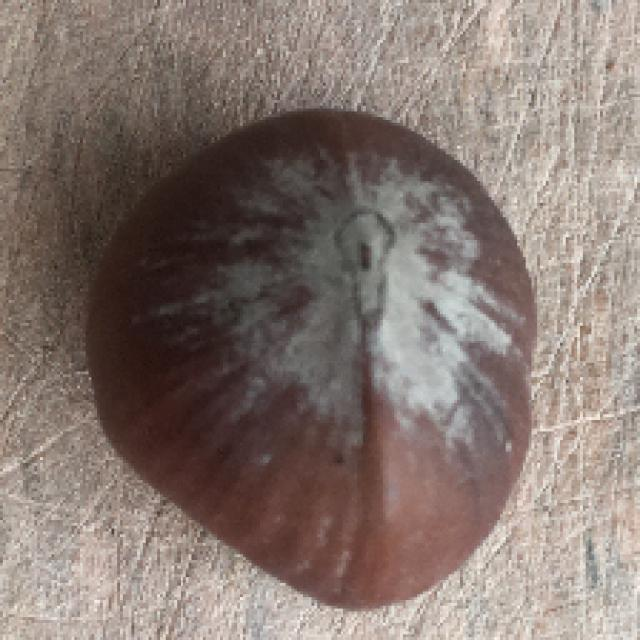damagedHazelnut: (92, 99, 534, 610)
